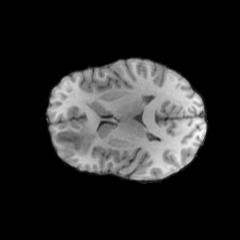glioma: (54, 124, 93, 155)
